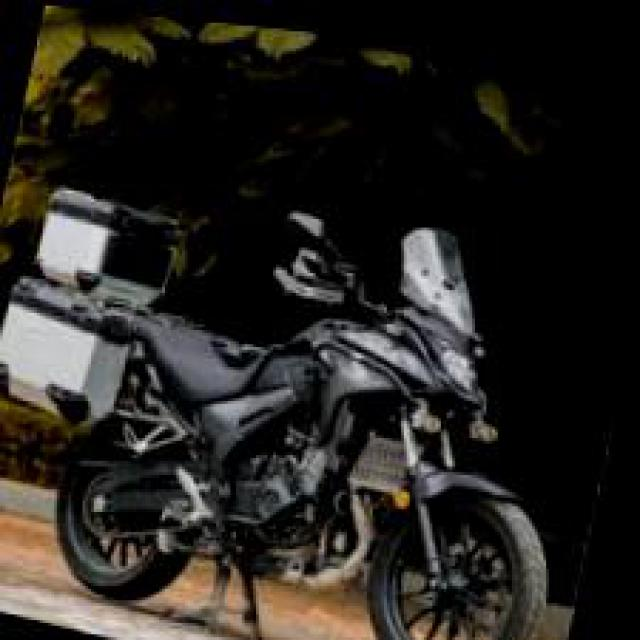CB500X: (37, 140, 620, 638)
